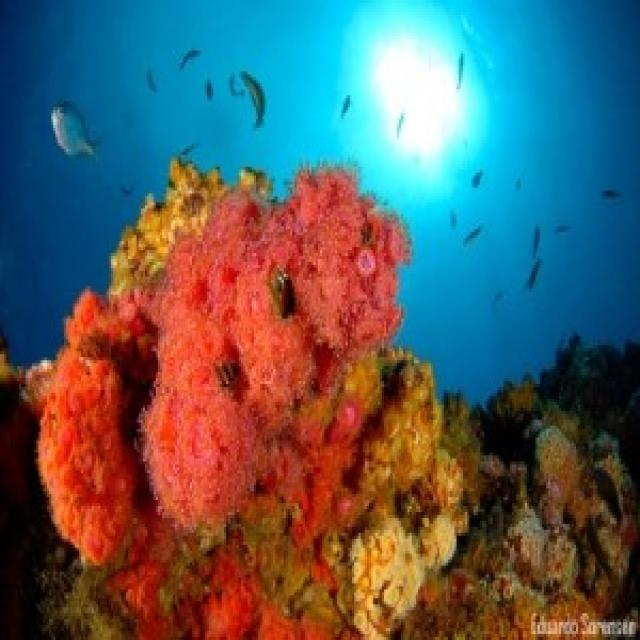Bleached: (353, 513, 455, 638)
Healthy: (142, 171, 408, 528), (161, 349, 464, 638), (402, 406, 639, 638), (39, 290, 155, 561), (114, 522, 334, 638), (112, 159, 229, 296), (242, 171, 272, 197)
